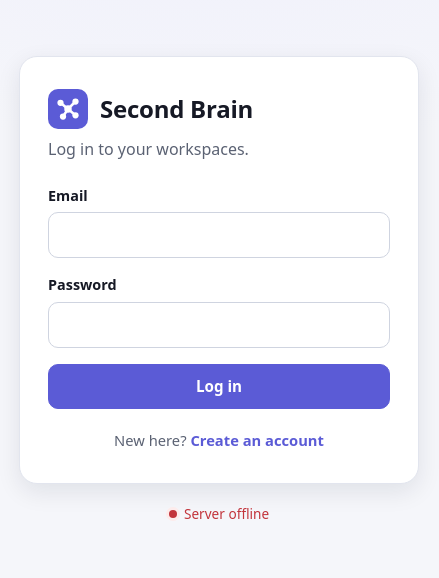
Test: AuthPage › explains when the server cannot be reached
Type "me@example.com" into the field labelled "Email".
click(219, 236); type("me@example.com")  # box [48,212,390,258]
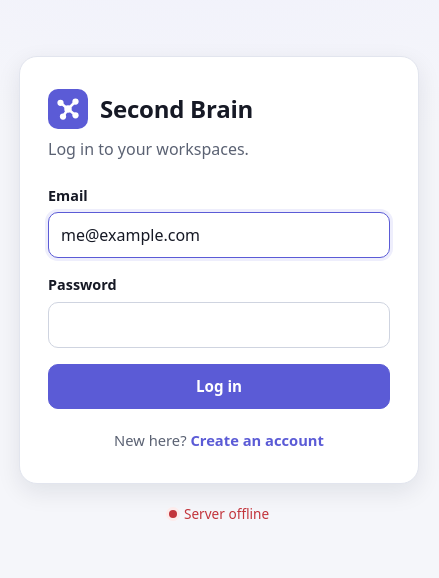
Type "password123" into the password field labelled "Password".
click(219, 325); type("password123")  # box [48,302,390,348]
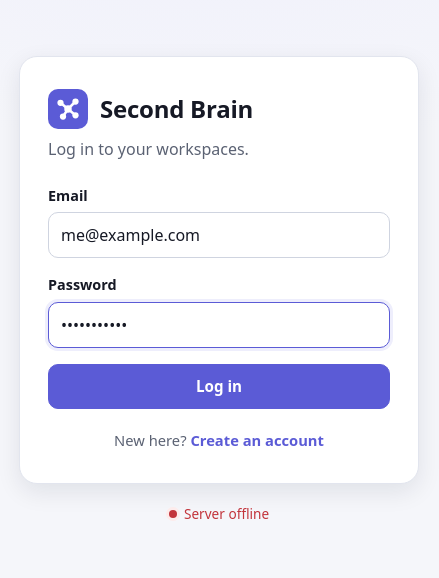
Click the button "Log in".
click(219, 386)  # box [48,364,390,409]
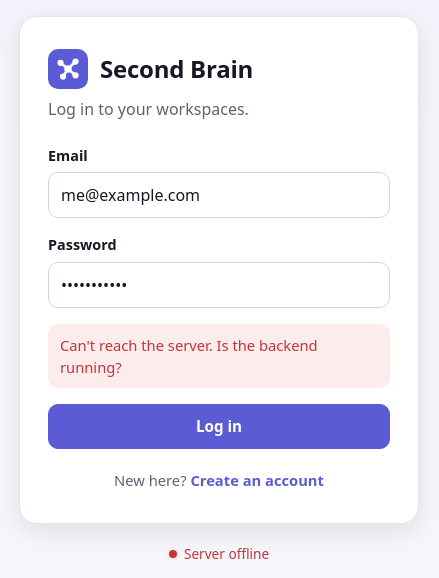
Check: the message "Can't reach the server. Is the backend running?" is shown, box [48,324,390,388]
